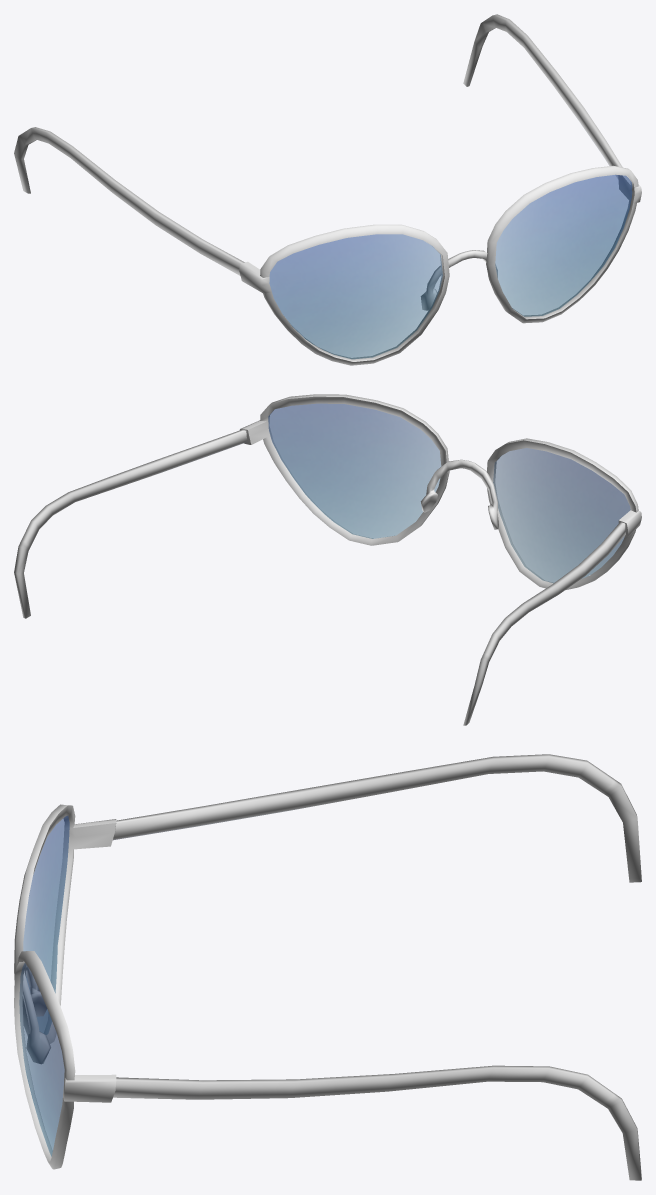
The picture shows the model from 3 angles, top to bottom: view 1: azimuth 30°, elevation 25°; view 2: azimuth 150°, elevation 25°; view 3: azimuth 270°, elevation 25°; orthographic projection. The views are drawn at different scales.
Visible parts, largest first — view 1: Wolf3D_Glasses; view 2: Wolf3D_Glasses; view 3: Wolf3D_Glasses.
Boxes of the visible parts, <box> form: Wolf3D_Glasses: <box>14,14,641,365</box>; Wolf3D_Glasses: <box>14,394,641,725</box>; Wolf3D_Glasses: <box>14,754,641,1180</box>.
Size of the model in its own units: 0.1635 by 0.0474 by 0.1368.
Materials: 1 (1 with a texture image).
